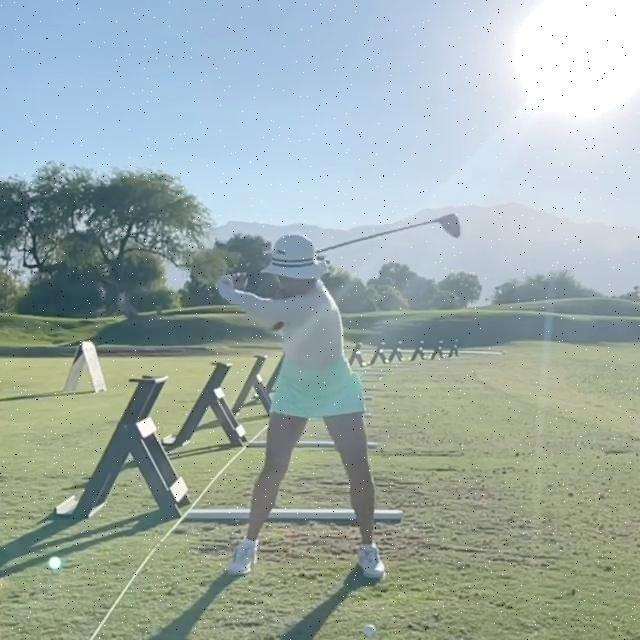golf ball: (363, 620, 380, 633)
golf club-handle: (246, 210, 463, 276)
golf club-head: (438, 214, 463, 242)
